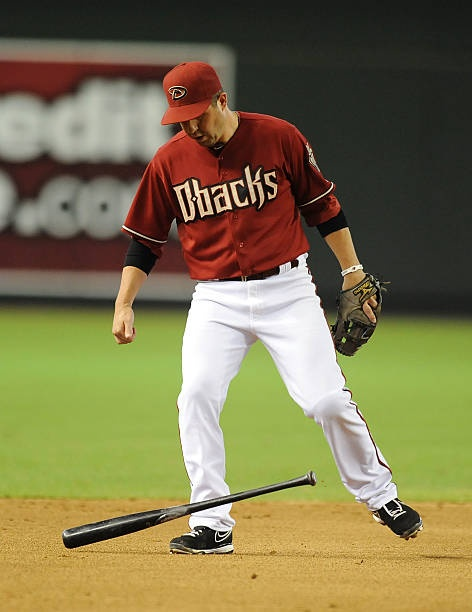bita: (63, 473, 321, 554)
